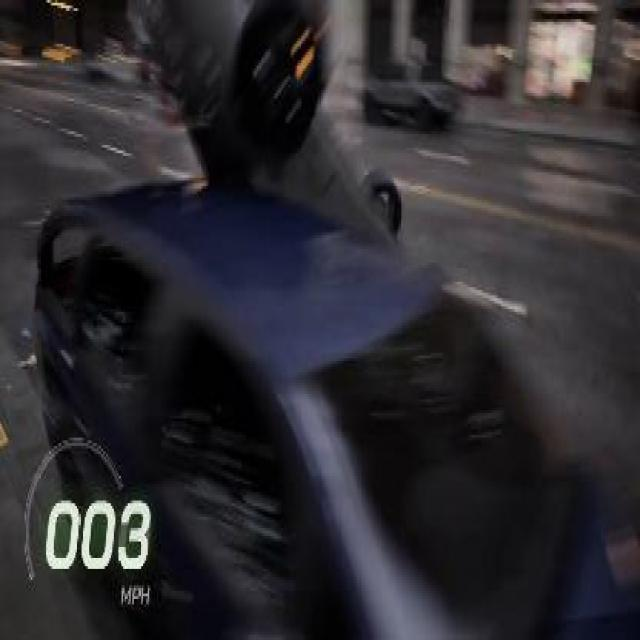accident: (26, 0, 640, 637)
